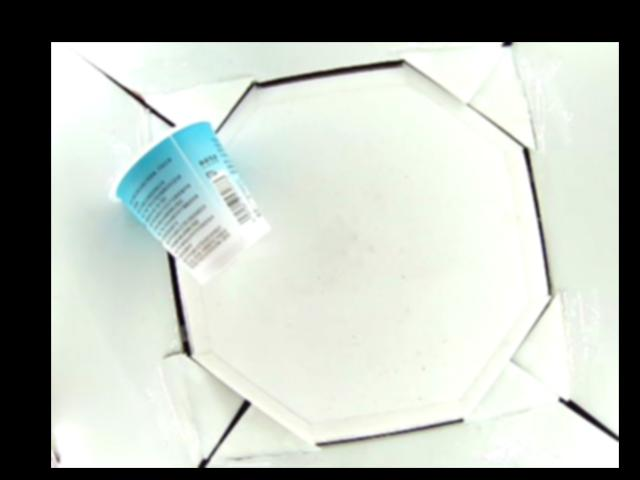Cup: (111, 121, 268, 281)
